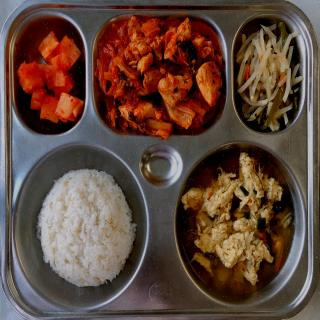Nasi: (34, 161, 133, 289)
